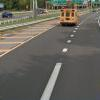Bus: (55, 4, 79, 27)
